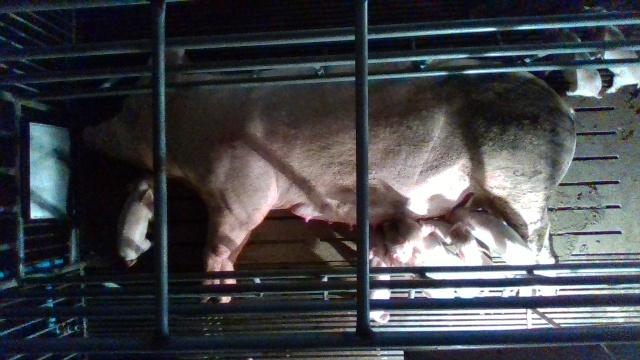piglet: (394, 215, 489, 299), (448, 192, 536, 267), (588, 8, 640, 93), (116, 177, 155, 266), (558, 28, 602, 99), (369, 237, 393, 324)
sow-sleep-lactate: (84, 47, 576, 301)
